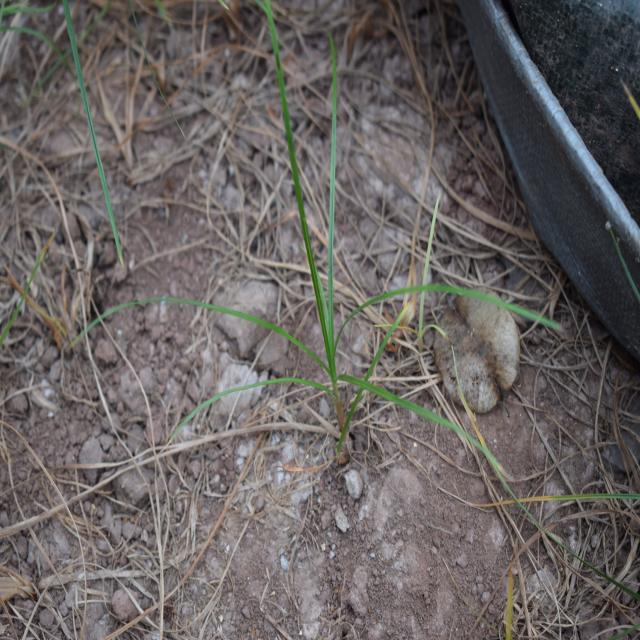sedge: (216, 60, 473, 437)
